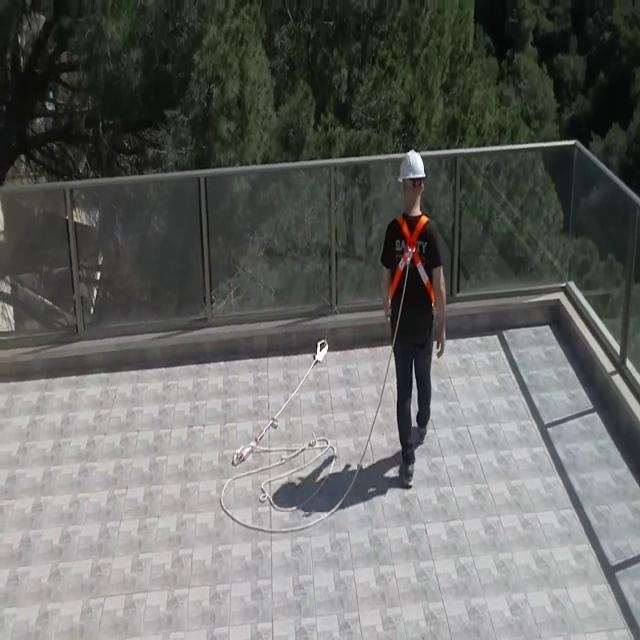Arnes_seguridad: (385, 213, 441, 306)
